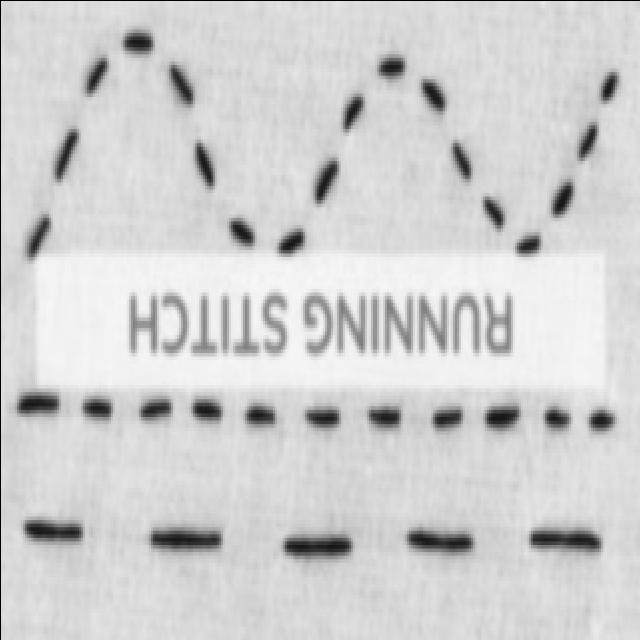stitch: (282, 536, 351, 558), (150, 531, 220, 549), (406, 532, 472, 551), (531, 531, 600, 549), (54, 129, 78, 180), (24, 520, 81, 540), (314, 160, 339, 204), (26, 216, 50, 260), (169, 64, 192, 104), (84, 58, 108, 96), (194, 142, 214, 187), (16, 394, 58, 413), (421, 80, 445, 113), (368, 407, 400, 431), (451, 142, 471, 180), (551, 182, 572, 218), (485, 407, 519, 429), (578, 124, 598, 160), (244, 404, 275, 427), (481, 198, 504, 229), (342, 96, 362, 131), (305, 409, 339, 429), (81, 398, 111, 420), (191, 400, 221, 422), (378, 56, 405, 80), (122, 32, 152, 53), (278, 229, 304, 253), (139, 400, 170, 420), (599, 71, 619, 102), (229, 220, 254, 244), (432, 409, 461, 429), (515, 233, 540, 256), (544, 409, 570, 431), (589, 411, 614, 431)
